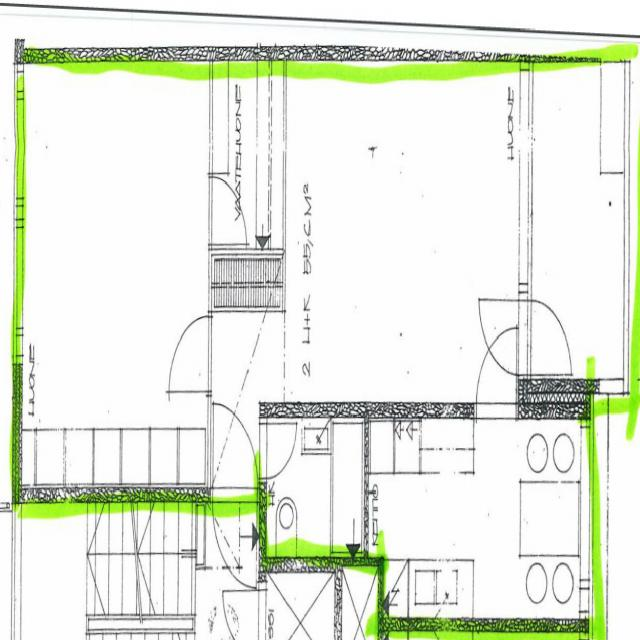door: (213, 403, 257, 502), (213, 488, 257, 586), (518, 301, 570, 374), (481, 301, 532, 374), (476, 328, 516, 419), (170, 317, 212, 392), (208, 176, 247, 244), (259, 422, 295, 478)
